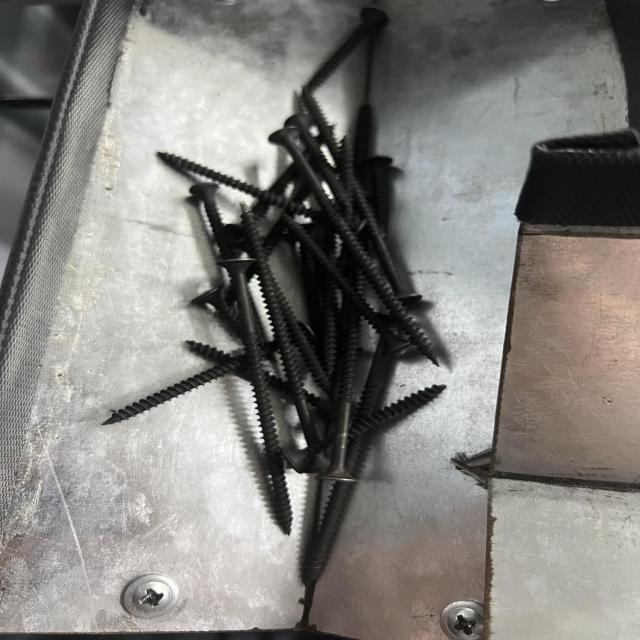screw: (221, 256, 299, 539)
